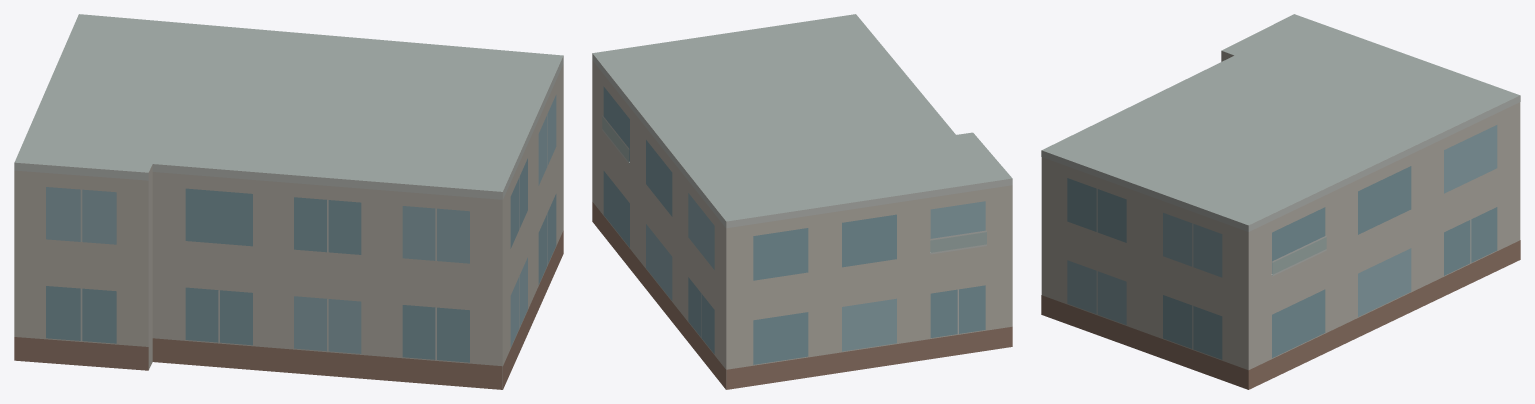
The model's file is survey-upis-32842079.glb.
3 renders of one model, left to right at view 1: azimuth 30°, elevation 25°; view 2: azimuth 150°, elevation 25°; view 3: azimuth 270°, elevation 25°, orthographic. The views are drawn at different scales.
Visible parts, largest first — view 1: survey-upis-32842079.tmp; view 2: survey-upis-32842079.tmp; view 3: survey-upis-32842079.tmp.
Boxes of the visible parts, x1,y1,x2,y2 form: survey-upis-32842079.tmp: (14, 14, 563, 389); survey-upis-32842079.tmp: (592, 14, 1012, 389); survey-upis-32842079.tmp: (1041, 14, 1520, 389).
Size of the model in its own units: 16.84 by 6.1 by 16.11.
